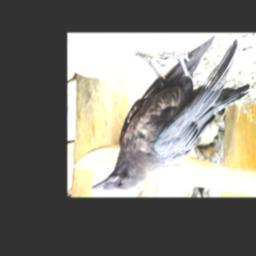Crow: (90, 37, 251, 193)
